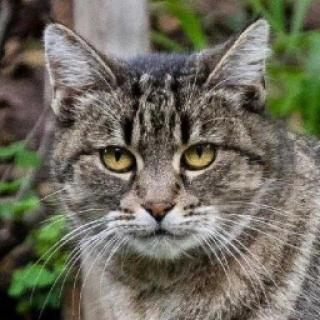cat: (33, 20, 281, 264)
nose: (137, 172, 184, 221)
